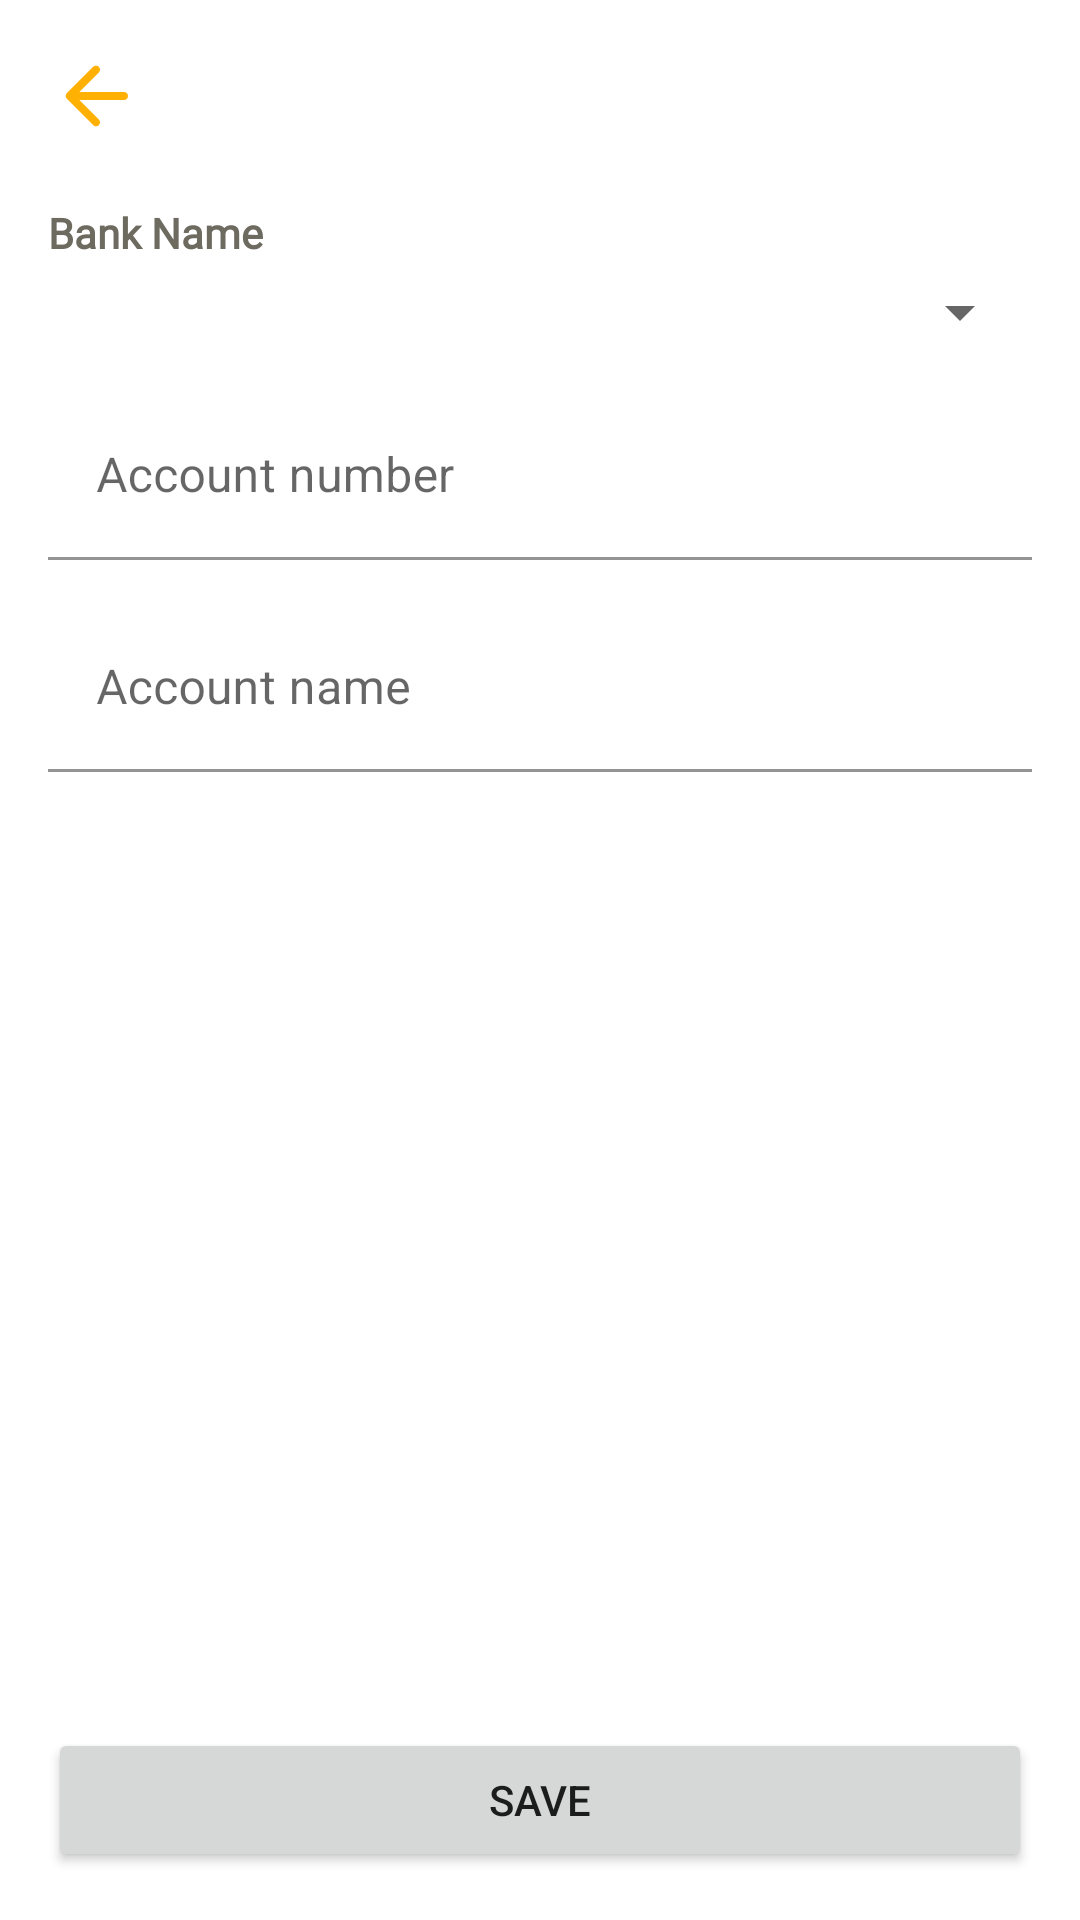

Where icons sit on this 1080×1920 app screen, as [left=x1, top=y1, right=x2, bottom=y2]:
back: [left=65, top=65, right=128, bottom=127]
